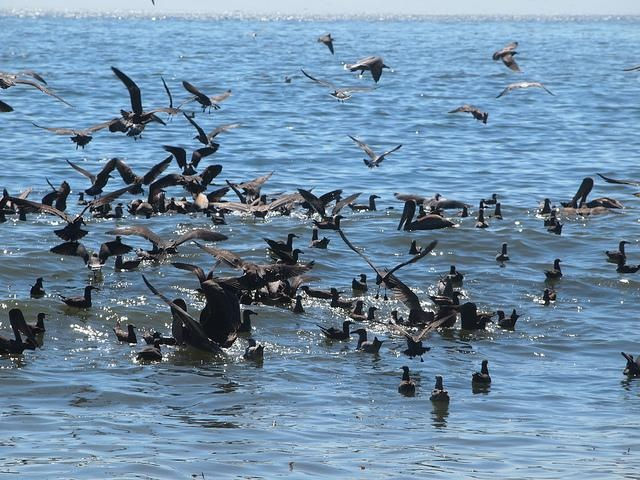bird: (3, 187, 132, 241), (333, 227, 439, 287), (101, 64, 189, 120), (355, 309, 469, 348), (104, 221, 230, 255), (30, 113, 128, 155), (298, 64, 385, 103), (341, 129, 410, 172), (106, 153, 173, 194), (156, 140, 221, 179), (178, 112, 246, 149), (182, 77, 236, 113), (65, 161, 121, 193), (342, 54, 397, 82), (493, 78, 556, 101), (447, 100, 495, 127), (492, 40, 530, 74), (308, 31, 340, 54), (541, 256, 570, 281)
